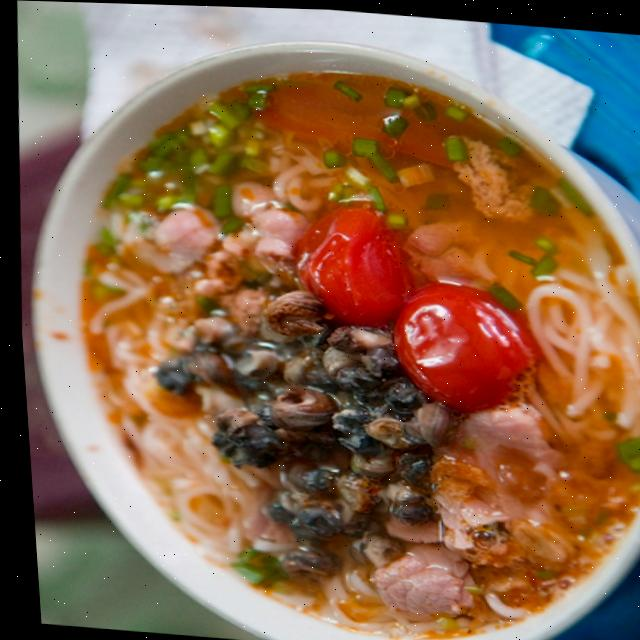面条主食: (1, 11, 640, 640)
